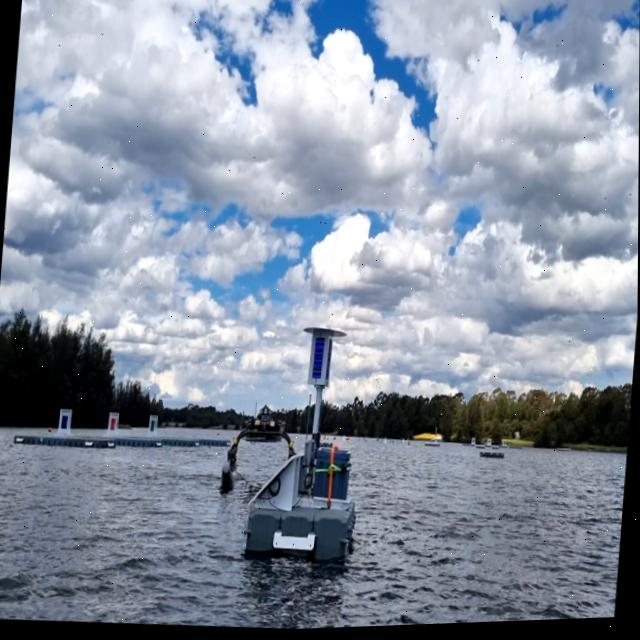led: (310, 337, 326, 386)
